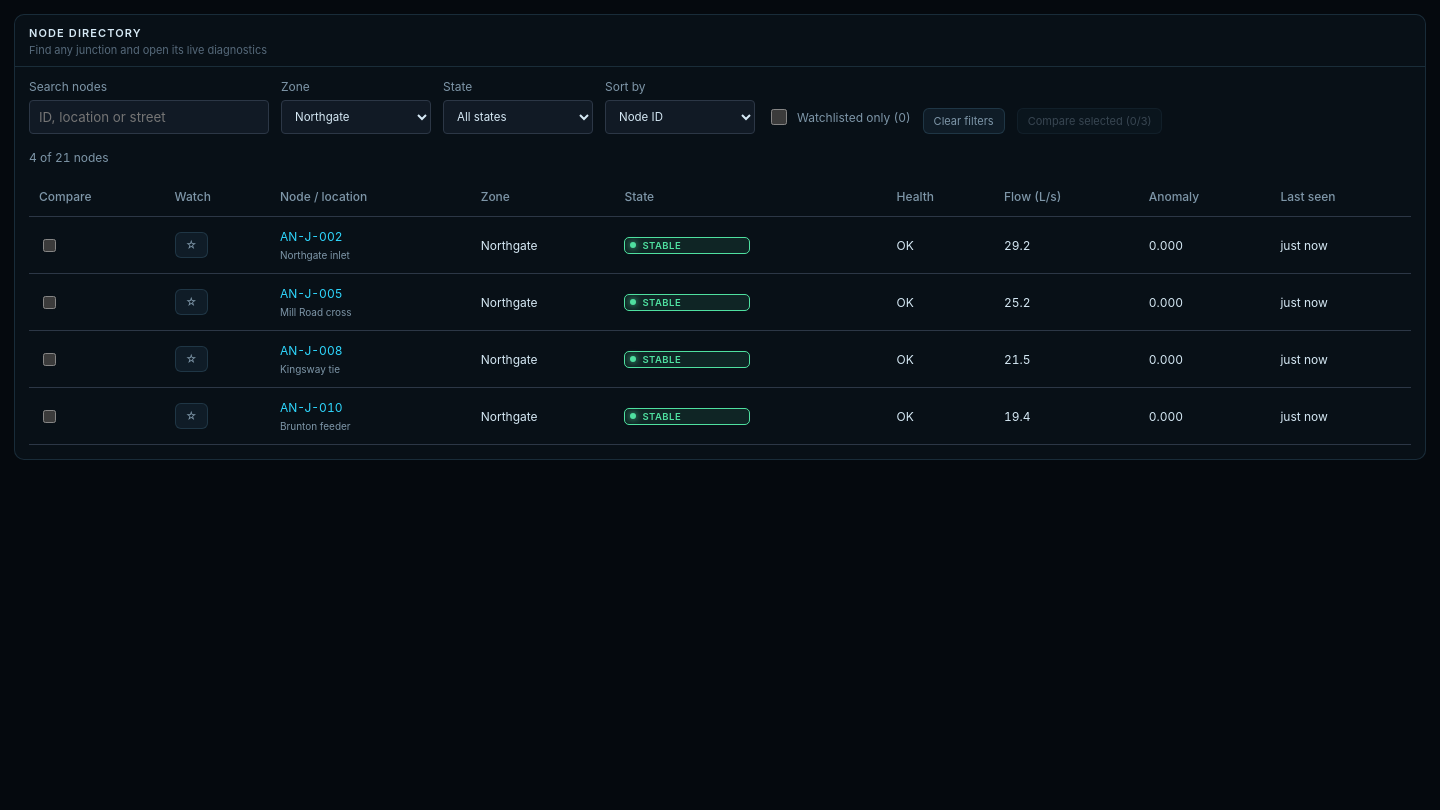
Test case: node comparison › limits directory selection to three and opens those nodes in comparison
Step 1. Click the checkbox named "Compare AN-J-" → [50, 245], box [43,238,56,252]
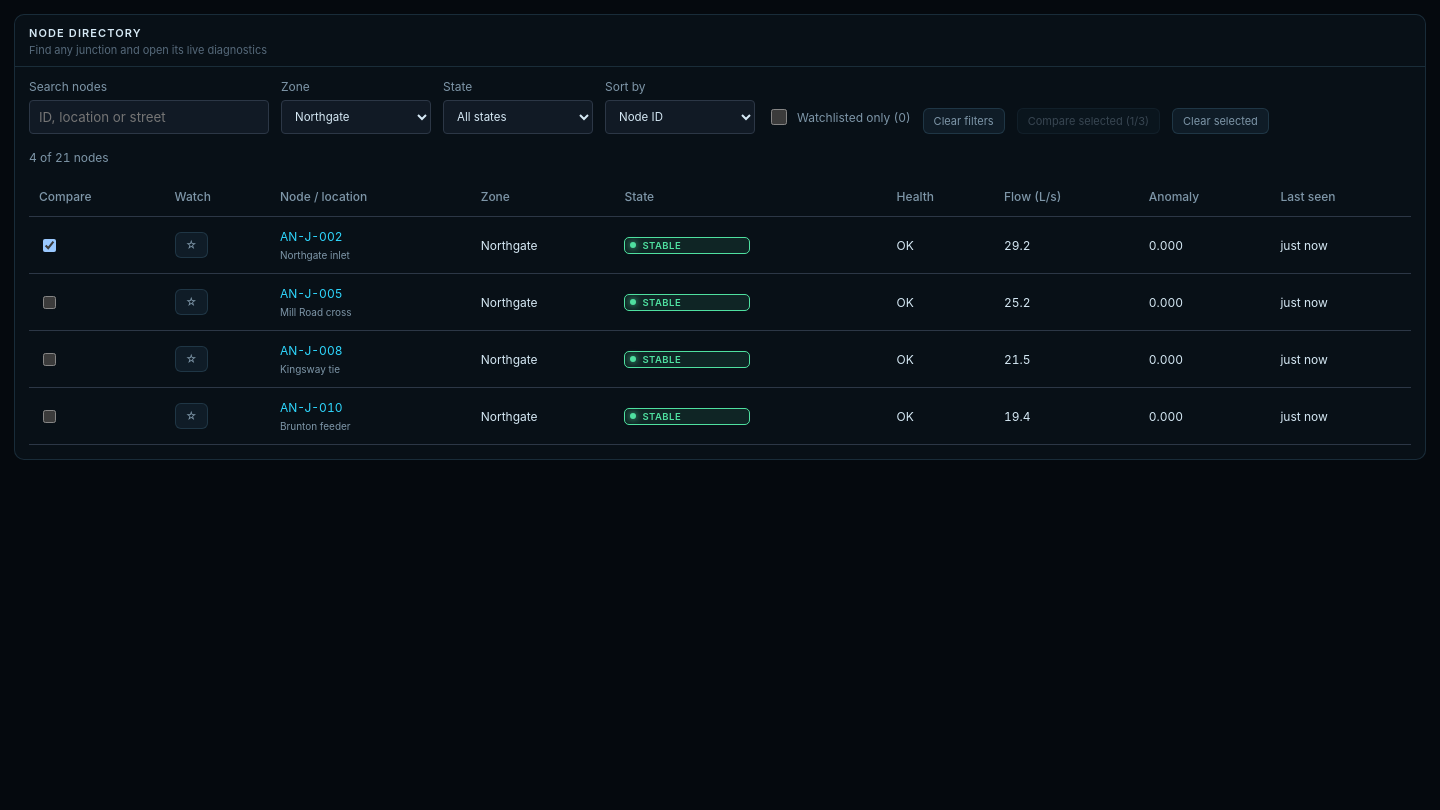
Step 2. Click the checkbox named "Compare AN-J-" → [50, 302], box [43,296,56,308]
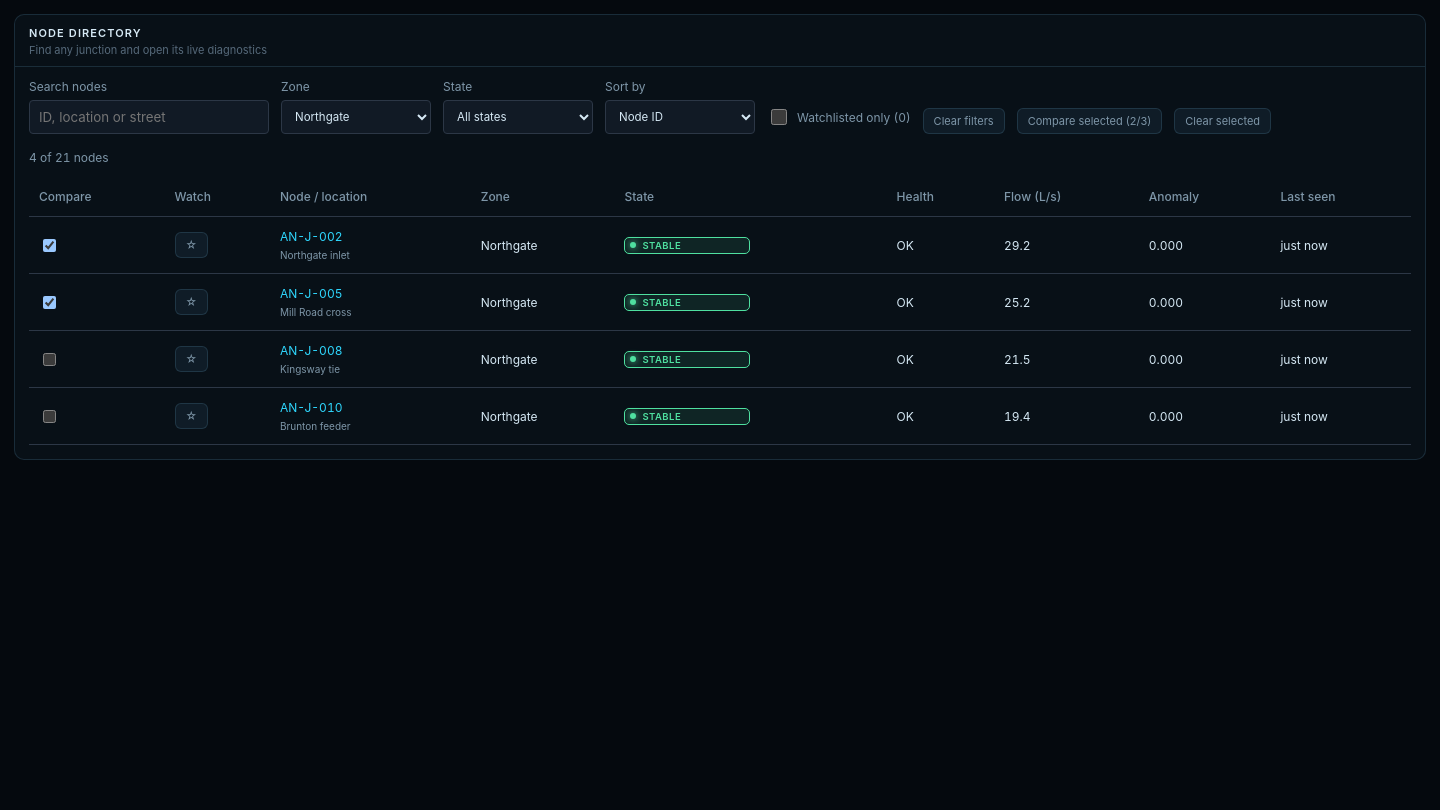
Step 3. Click the checkbox named "Compare AN-J-" → [50, 359], box [43,352,56,366]
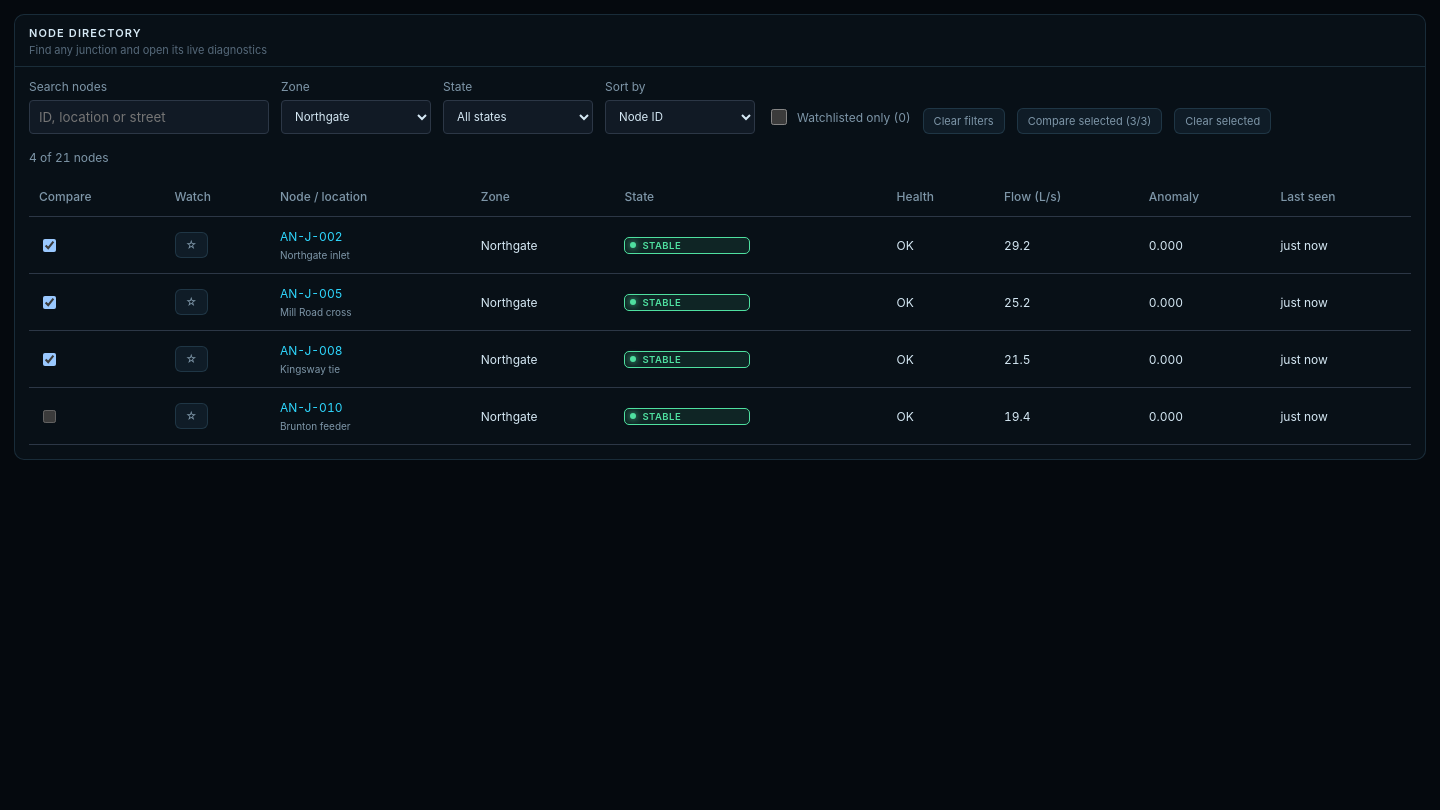
Expected: the checkbox named "Compare AN-J-" is disabled, [43,410,56,422]
Step 4. Click the button "Compare selected (3/3)" → [1090, 121], box [1017,108,1162,134]
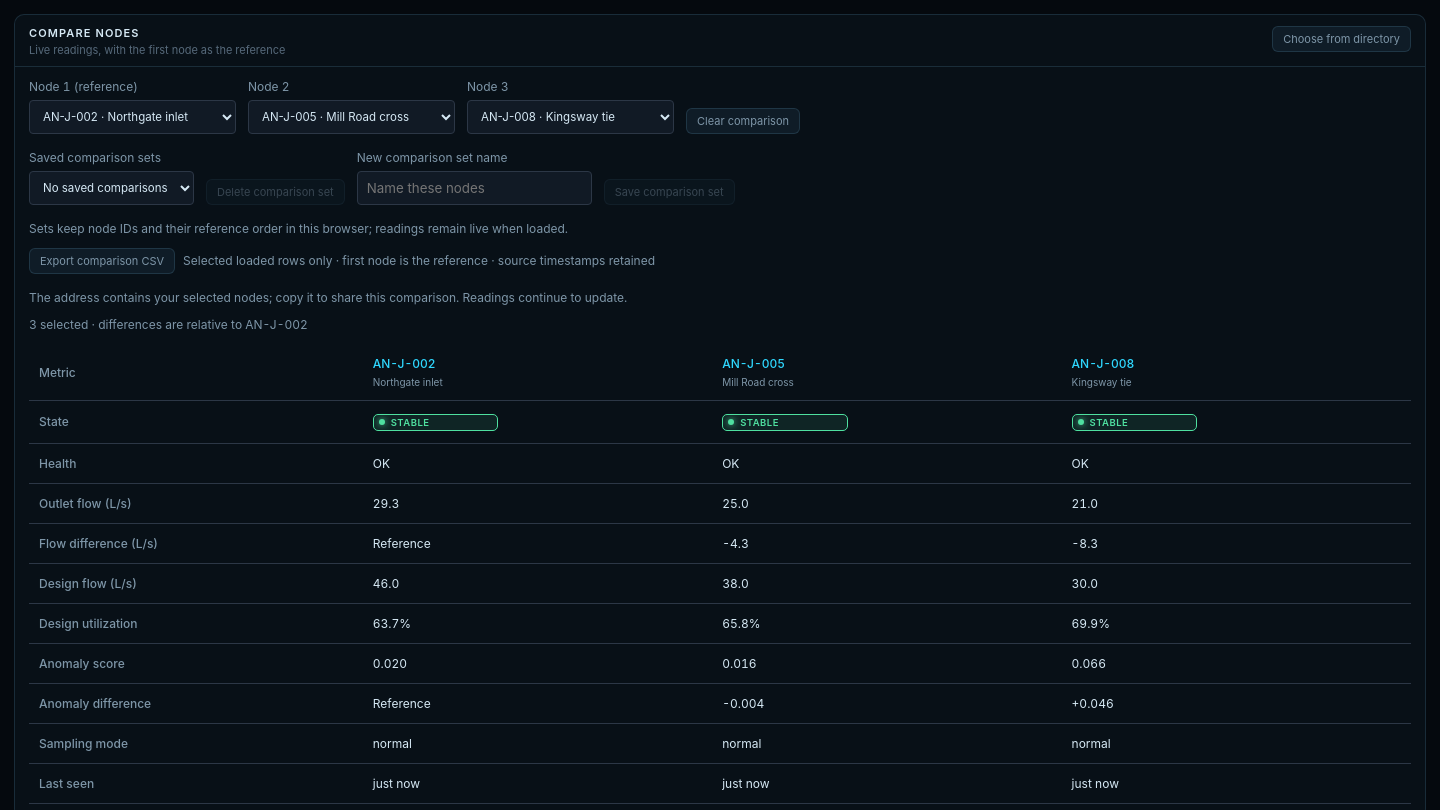
Expected: the heading "Compare nodes" is shown, [29,26,140,40]
